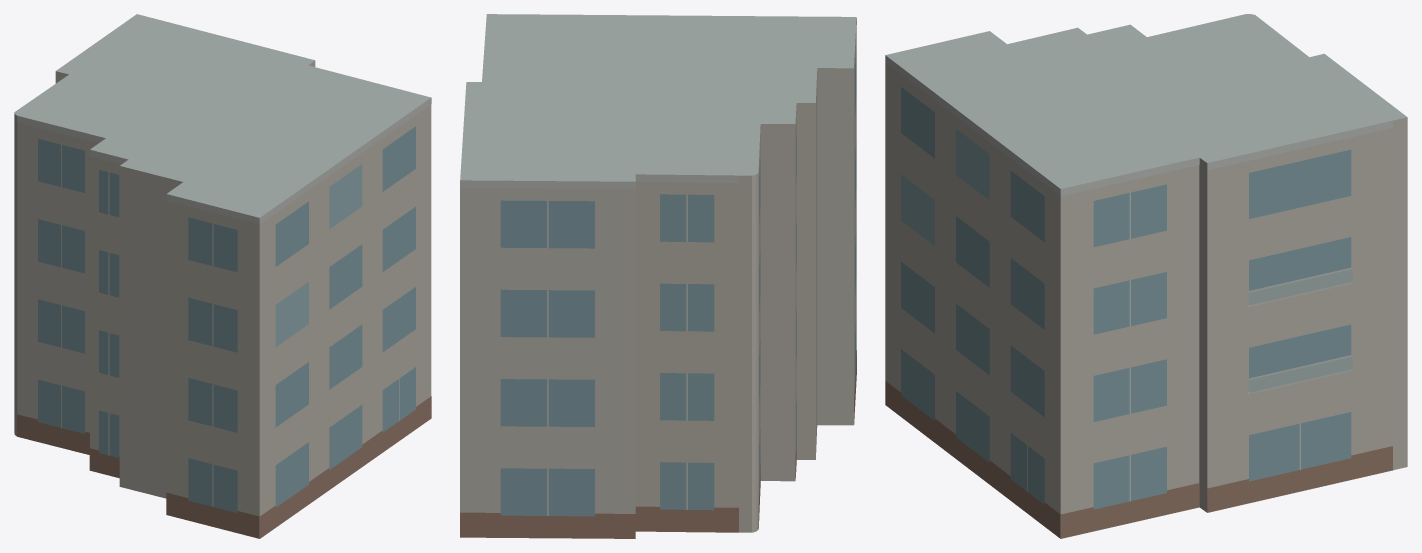
The model's file is survey-upis-32745865.glb.
3 renders of one model, left to right at view 1: azimuth 30°, elevation 25°; view 2: azimuth 150°, elevation 25°; view 3: azimuth 270°, elevation 25°, orthographic. The views are drawn at different scales.
Visible parts, largest first — view 1: survey-upis-32745865.tmp; view 2: survey-upis-32745865.tmp; view 3: survey-upis-32745865.tmp.
Boxes of the visible parts, left/top/right/bottom form: survey-upis-32745865.tmp: left=14, top=14, right=431, bottom=538; survey-upis-32745865.tmp: left=460, top=14, right=856, bottom=538; survey-upis-32745865.tmp: left=885, top=14, right=1407, bottom=538.
Size of the model in its own units: 12.57 by 11.7 by 15.84.
